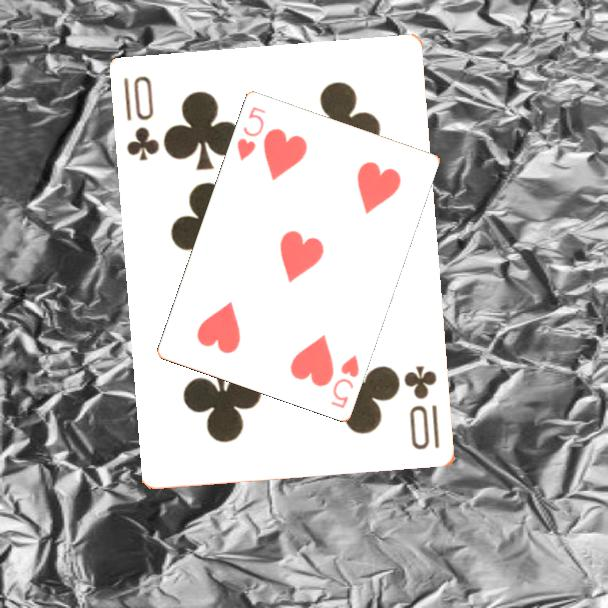c10: (120, 73, 163, 164), (401, 362, 443, 453)
h05: (233, 103, 268, 163), (327, 351, 362, 411)
